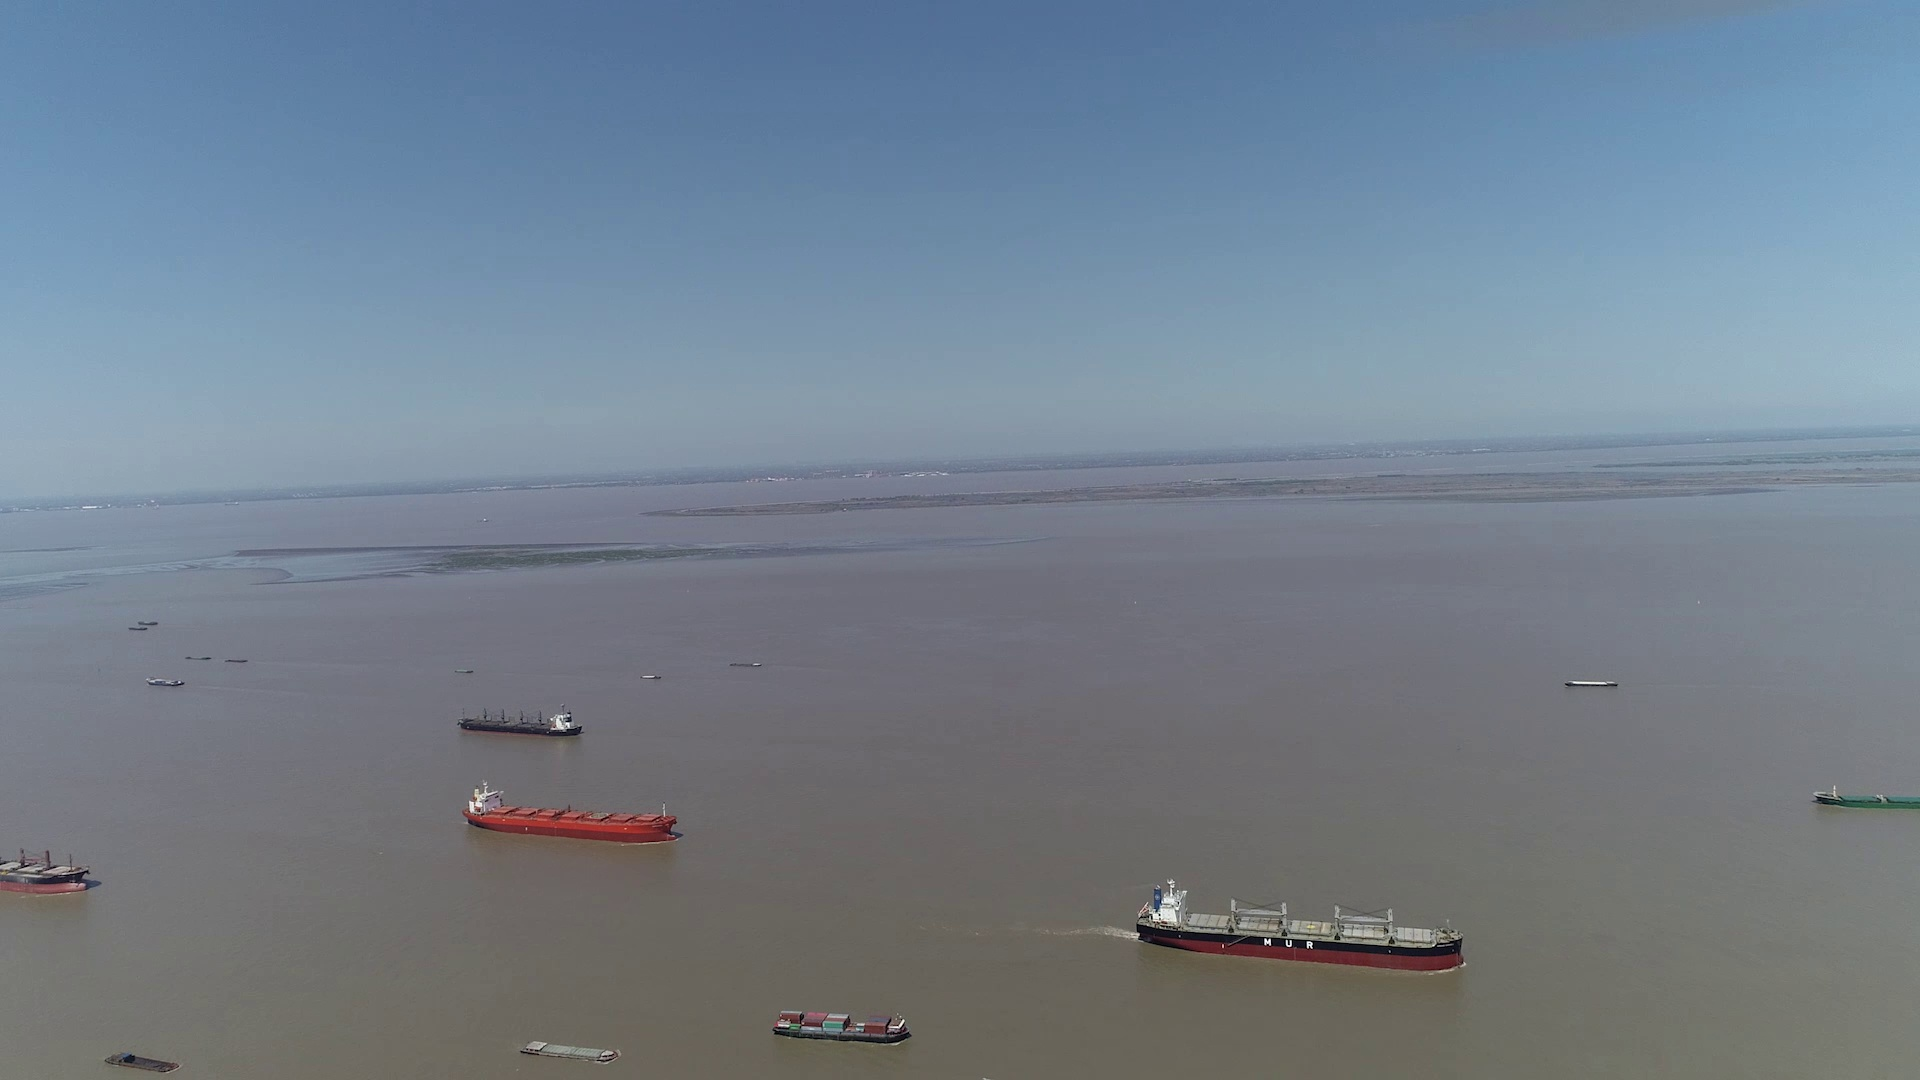ship: (1138, 880, 1465, 971), (465, 779, 679, 844), (0, 836, 95, 895), (774, 1011, 910, 1044), (458, 705, 583, 737), (520, 1038, 622, 1063), (1812, 789, 1919, 811), (105, 1052, 179, 1072), (1567, 678, 1618, 687), (148, 675, 185, 687)
